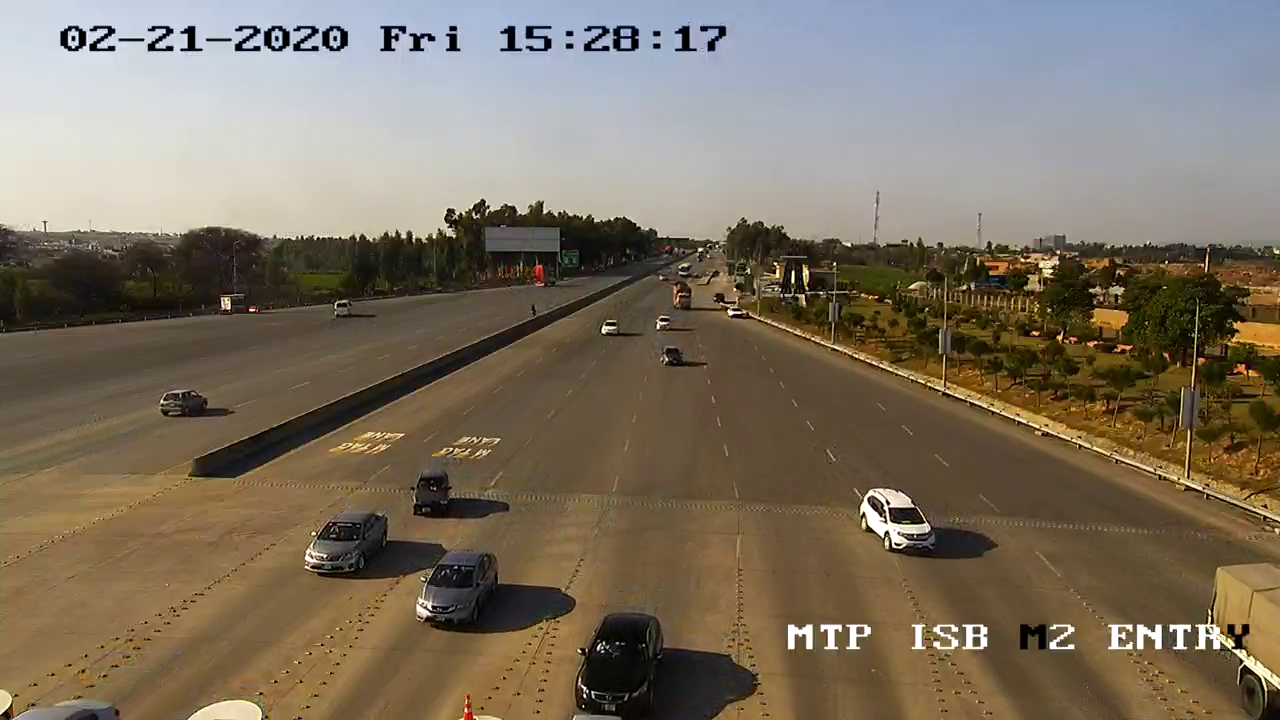f1: (560, 601, 685, 717), (402, 545, 504, 638), (842, 478, 949, 563), (298, 498, 399, 584)
